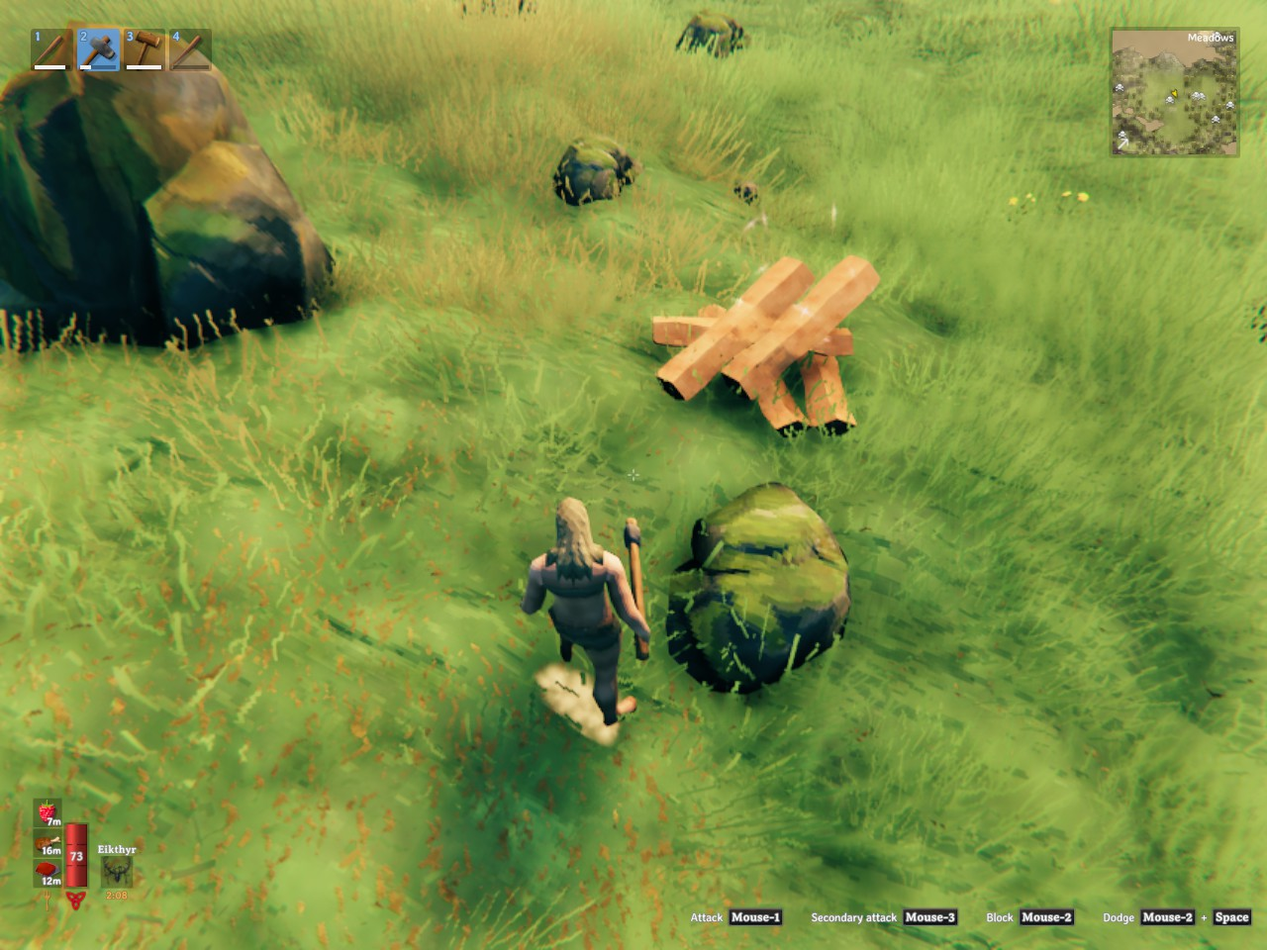Food Indicator: (36, 797, 63, 891)
Health Bar: (63, 820, 90, 891)
Hotbar: (25, 21, 398, 78)
Stone: (733, 182, 759, 203)
Stone Axe: (626, 518, 644, 613), (636, 641, 648, 659)
Wood: (723, 256, 878, 398), (657, 258, 812, 399), (802, 354, 855, 433), (652, 305, 723, 345), (757, 378, 806, 432), (815, 330, 851, 354)
